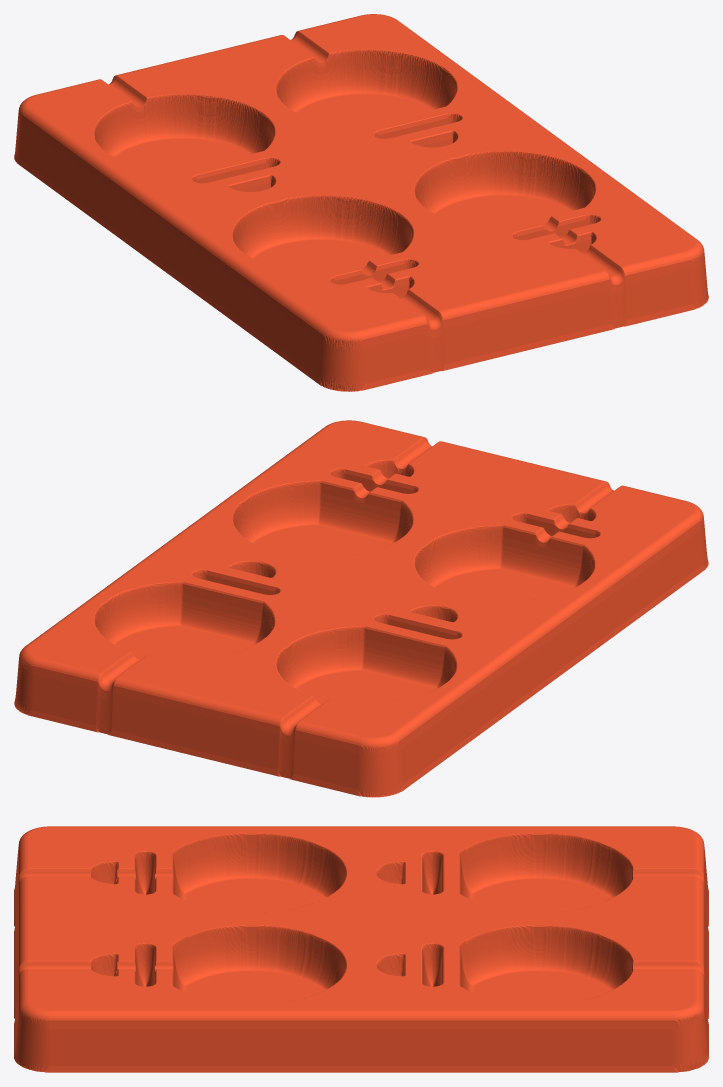
File: mold.glb
The picture shows the model from 3 angles, top to bottom: view 1: azimuth 30°, elevation 25°; view 2: azimuth 150°, elevation 25°; view 3: azimuth 270°, elevation 25°; orthographic projection. The views are drawn at different scales.
Visible parts, largest first — view 1: geometry_0; view 2: geometry_0; view 3: geometry_0.
Boxes of the visible parts, x1,y1,x2,y2 form: geometry_0: (14, 14, 708, 391); geometry_0: (14, 420, 708, 797); geometry_0: (14, 826, 708, 1072).
Size of the model in its own units: 0.1152 by 0.0155 by 0.1735.
